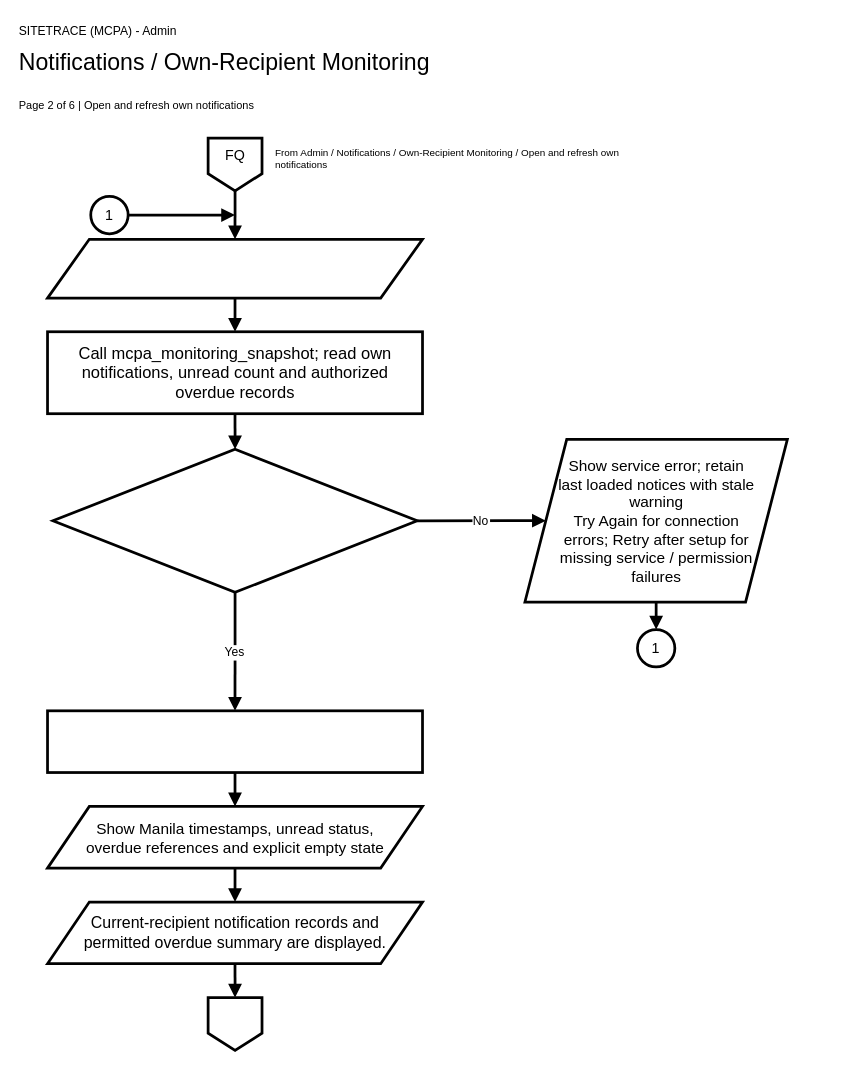
Some shapes in this 859 by 1070 pixel diagram are drawn without their labels. Each missing label, with the box of its shape:
Monitoring snapshot has valid notifications and overdue arrays?: (51, 447, 418, 593)
Select notification bell in a live session: (46, 237, 423, 299)
Sort notices newest first; update unread bell; subscribe to notification changes: (46, 709, 423, 773)
XX: (206, 996, 263, 1051)
